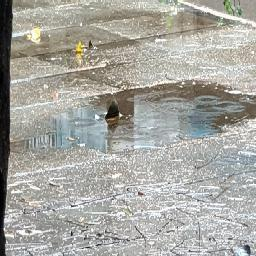water accumulation: (10, 80, 256, 152), (10, 10, 239, 60)
